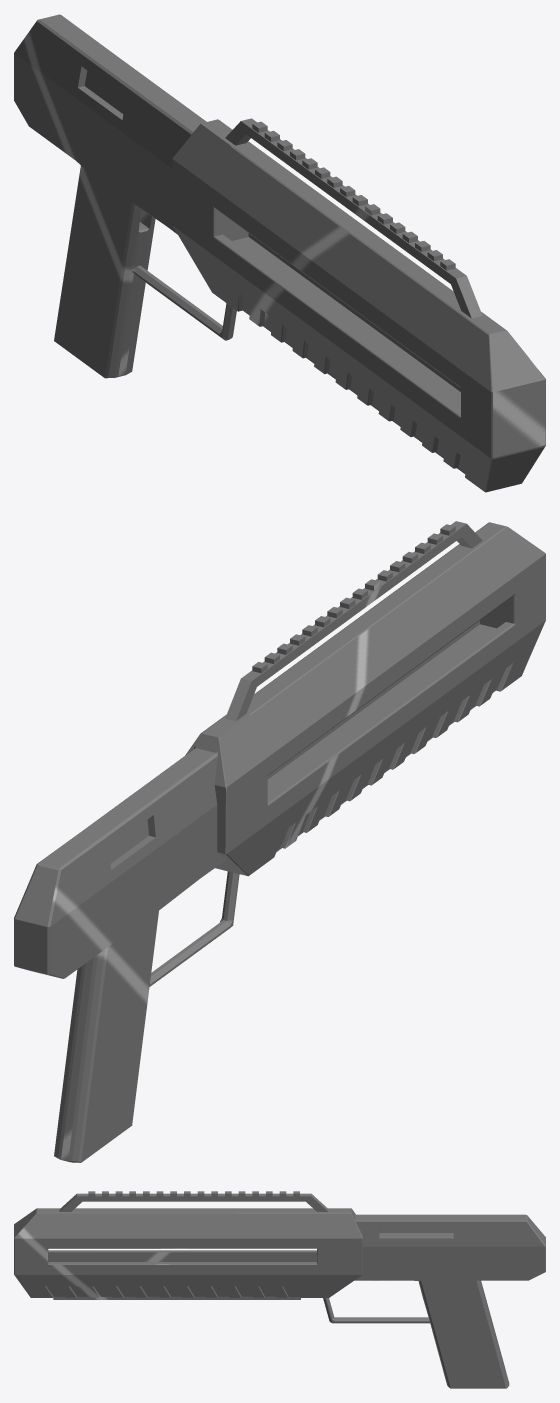
The model's file is FSR-S5-Main.obj.
3 views of the same model, one above another, from view 1: azimuth 30°, elevation 25°; view 2: azimuth 150°, elevation 25°; view 3: azimuth 270°, elevation 25° (orthographic). The views are drawn at different scales.
Parts seen in each view (by area): view 1: FSR-S5-Main; view 2: FSR-S5-Main; view 3: FSR-S5-Main.
Boxes of the visible parts, x1,y1,x2,y2 form: FSR-S5-Main: [14, 14, 545, 492]; FSR-S5-Main: [14, 521, 545, 1162]; FSR-S5-Main: [14, 1191, 545, 1388].
Bounding box in the file's own units: 1.5 × 9.29 × 23.25.
